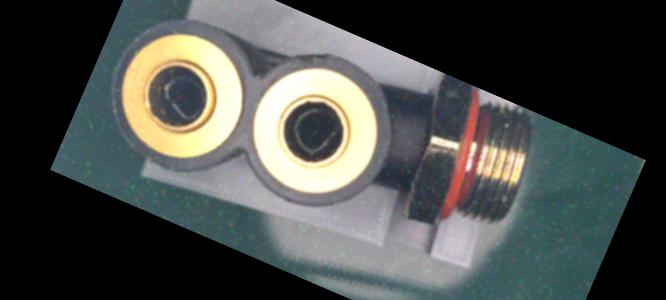off-centered: (143, 61, 219, 132), (279, 94, 348, 164)
white mark: (396, 143, 417, 166)
